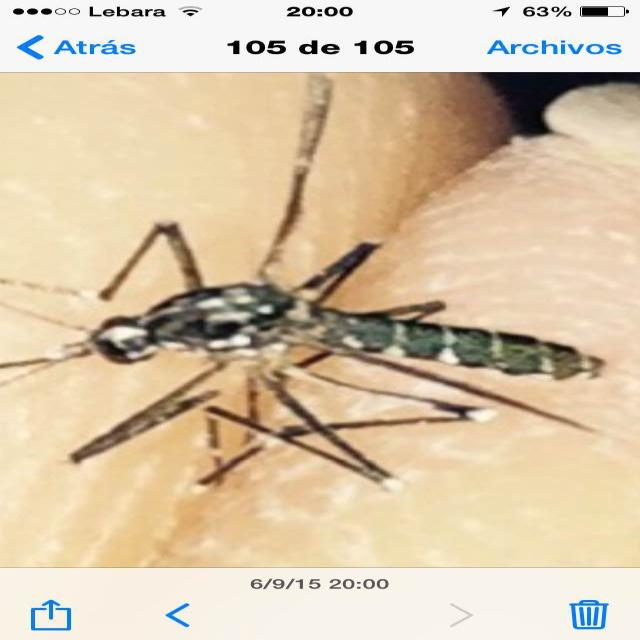albopictus: (16, 172, 614, 509)
